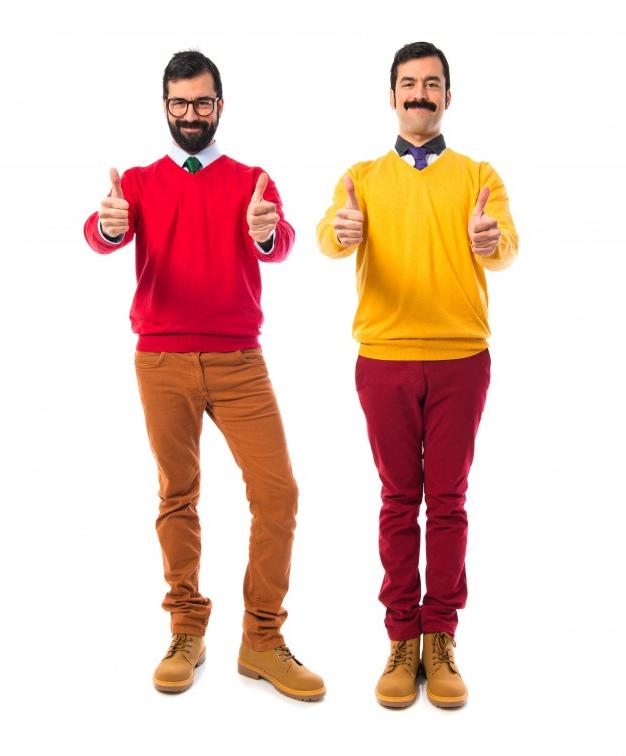thumbsup: (248, 172, 280, 243), (470, 187, 501, 256), (334, 175, 363, 246), (99, 167, 129, 235)
